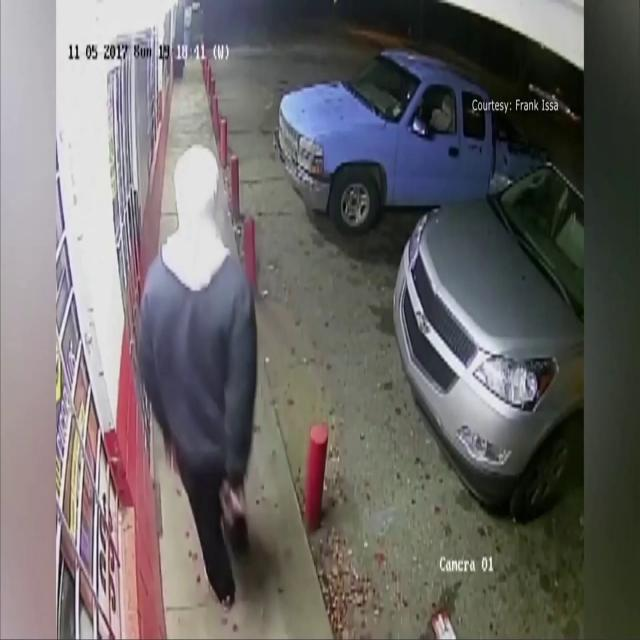gun: (218, 480, 244, 534)
